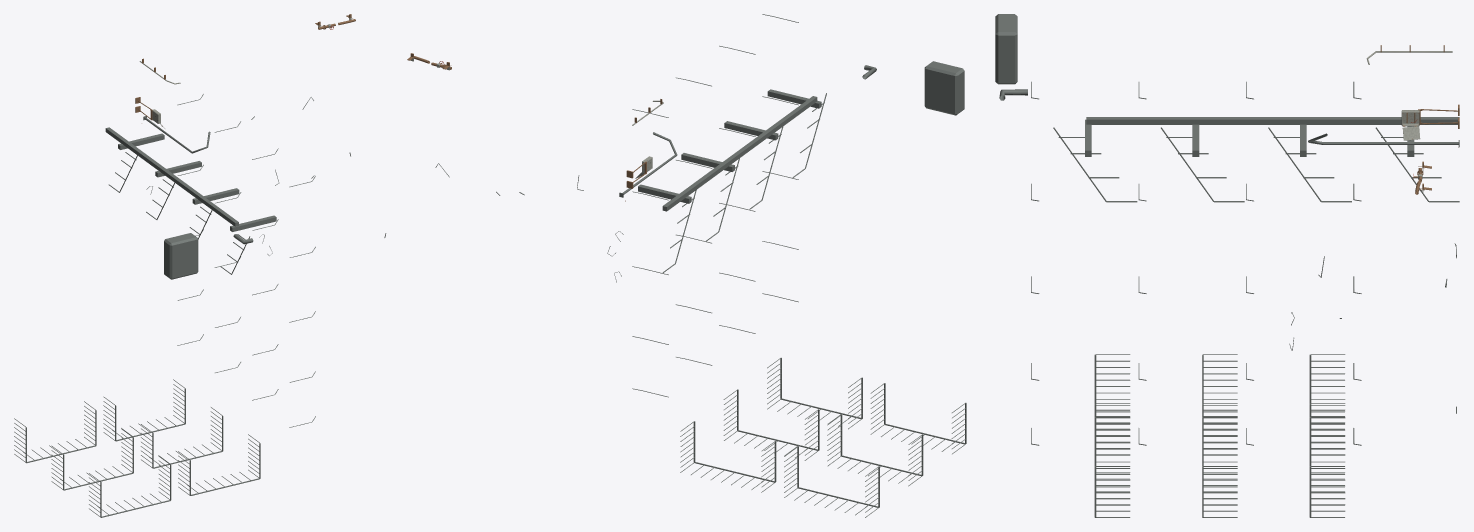
The model's file is visual_metal.glb.
The picture shows the model from 3 angles, left to right: view 1: azimuth 30°, elevation 25°; view 2: azimuth 150°, elevation 25°; view 3: azimuth 270°, elevation 25°; orthographic projection. The views are drawn at different scales.
Visible parts, largest first — view 1: Apartment_Steel; view 2: Apartment_Steel; view 3: Apartment_Steel, Apartment_HA_Paint.001, Apartment_HA_Rust.001.
Part boxes in pixels (box(x1,y1,x2,y2)): Apartment_Steel: box(14, 94, 350, 517); Apartment_Steel: box(384, 14, 966, 517); Apartment_Steel: box(995, 14, 1459, 517); Apartment_HA_Paint.001: box(1366, 51, 1452, 193); Apartment_HA_Rust.001: box(1380, 45, 1459, 194).
Bounding box in the file's own units: 18.31 × 15.43 × 13.6.
6 materials, 1 textured.
